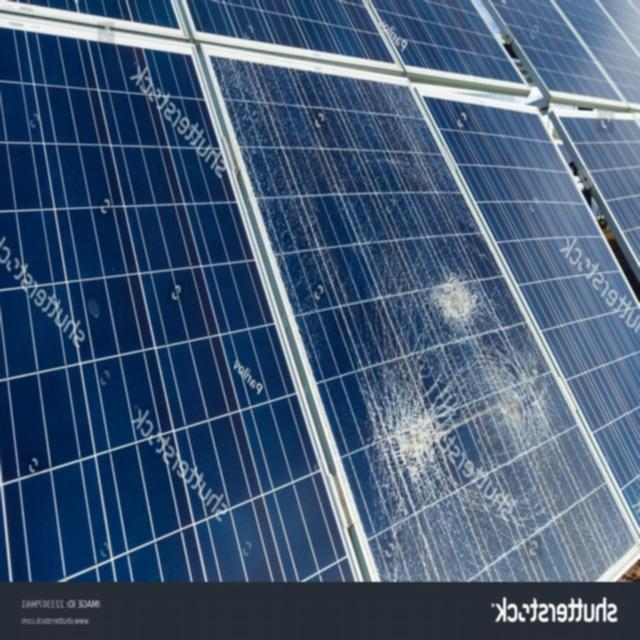cracked: (220, 59, 611, 574)
